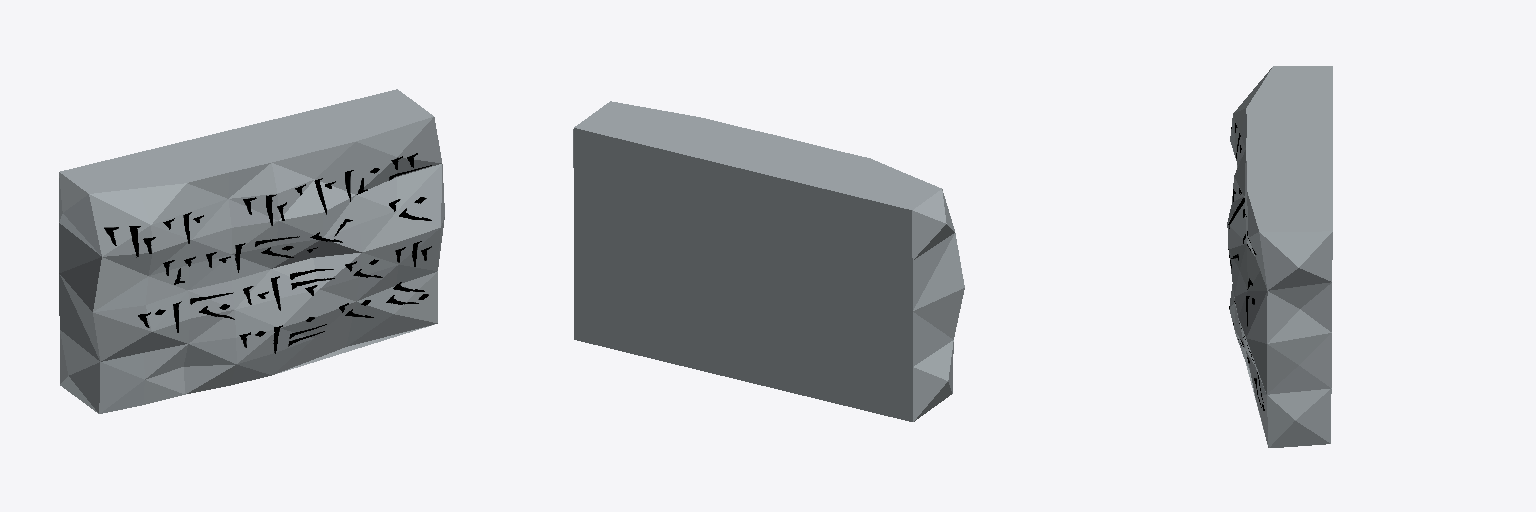
The picture shows the model from 3 angles: view 1: azimuth 30°, elevation 25°; view 2: azimuth 150°, elevation 25°; view 3: azimuth 270°, elevation 25°; orthographic projection.
Parts seen in each view (by area): view 1: pCube1; view 2: pCube1; view 3: pCube1.
Boxes of the visible parts, <box> form: pCube1: <box>59,89,444,413</box>; pCube1: <box>573,101,964,421</box>; pCube1: <box>1227,66,1332,447</box>.
Size of the model in its own units: 69.16 by 37.84 by 16.97.
Materials: 1 (1 with a texture image).